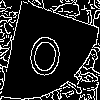O: (24, 24, 67, 80)
